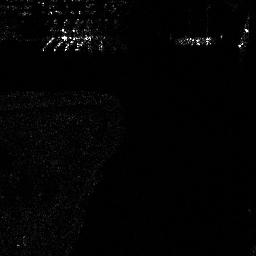ship: (174, 34, 221, 49)
